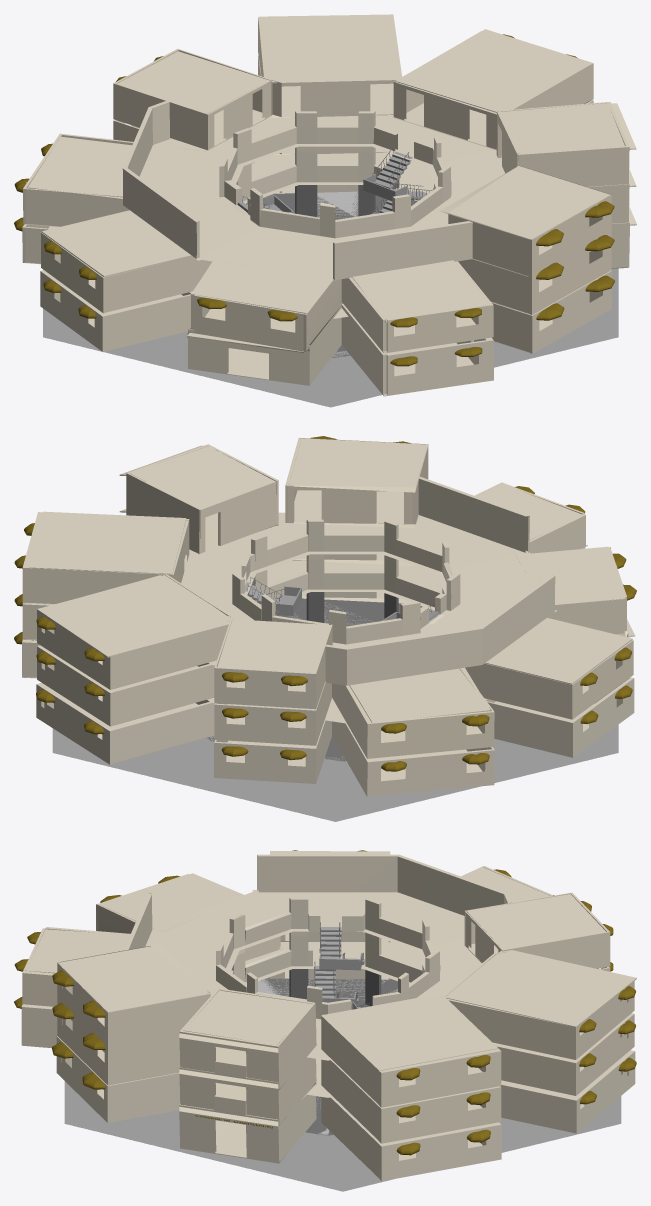
The model's file is Eng_Building_Retouched.fbx.
3 views of the same model, one above another, from view 1: azimuth 30°, elevation 25°; view 2: azimuth 150°, elevation 25°; view 3: azimuth 270°, elevation 25° (orthographic). The views are drawn at different scales.
Parts seen in each view (by area): view 1: polySurface258, polySurface194, polySurface516, polySurface517, polySurface200, polySurface196, polySurface253, polySurface203, polySurface257, polySurface204, polySurface255, polySurface228 (+23 smaller); view 2: polySurface258, polySurface194, polySurface516, polySurface517, polySurface207, polySurface249, polySurface196, polySurface254, polySurface205, polySurface251, polySurface227, polySurface257 (+23 smaller); view 3: polySurface258, polySurface194, polySurface516, polySurface517, polySurface208, polySurface253, polySurface209, polySurface248, polySurface254, polySurface257, polySurface252, polySurface251 (+22 smaller).
Part boxes in pixels (left/top/right/bottom): polySurface258: left=122, top=101, right=505, bottom=280; polySurface194: left=43, top=268, right=618, bottom=407; polySurface516: left=258, top=14, right=399, bottom=83; polySurface517: left=395, top=31, right=590, bottom=112; polySurface200: left=341, top=304, right=493, bottom=396; polySurface196: left=189, top=146, right=435, bottom=318; polySurface253: left=393, top=29, right=593, bottom=150; polySurface203: left=187, top=306, right=341, bottom=385; polySurface257: left=451, top=167, right=605, bottom=237; polySurface204: left=40, top=270, right=190, bottom=351; polySurface255: left=113, top=48, right=272, bottom=150; polySurface228: left=41, top=232, right=212, bottom=313; polySurface258: left=181, top=476, right=555, bottom=685; polySurface194: left=52, top=724, right=618, bottom=821; polySurface516: left=37, top=575, right=230, bottom=657; polySurface517: left=29, top=511, right=186, bottom=574; polySurface207: left=36, top=682, right=214, bottom=764; polySurface249: left=37, top=645, right=214, bottom=726; polySurface196: left=207, top=554, right=487, bottom=723; polySurface254: left=37, top=574, right=230, bottom=689; polySurface205: left=332, top=699, right=494, bottom=796; polySurface251: left=285, top=438, right=428, bottom=528; polySurface227: left=332, top=668, right=494, bottom=758; polySurface257: left=289, top=439, right=424, bottom=486; polySurface258: left=124, top=854, right=511, bottom=1060; polySurface194: left=64, top=1007, right=621, bottom=1191; polySurface516: left=445, top=950, right=636, bottom=1027; polySurface517: left=321, top=993, right=498, bottom=1071; polySurface208: left=321, top=1097, right=501, bottom=1181; polySurface253: left=321, top=993, right=501, bottom=1107; polySurface209: left=179, top=1083, right=316, bottom=1163; polySurface248: left=321, top=1059, right=501, bottom=1143; polySurface254: left=444, top=951, right=634, bottom=1059; polySurface257: left=63, top=947, right=207, bottom=1010; polySurface252: left=179, top=988, right=316, bottom=1089; polySurface251: left=57, top=946, right=210, bottom=1048.
Bounding box in the file's own units: 182 × 39.21 × 177.
